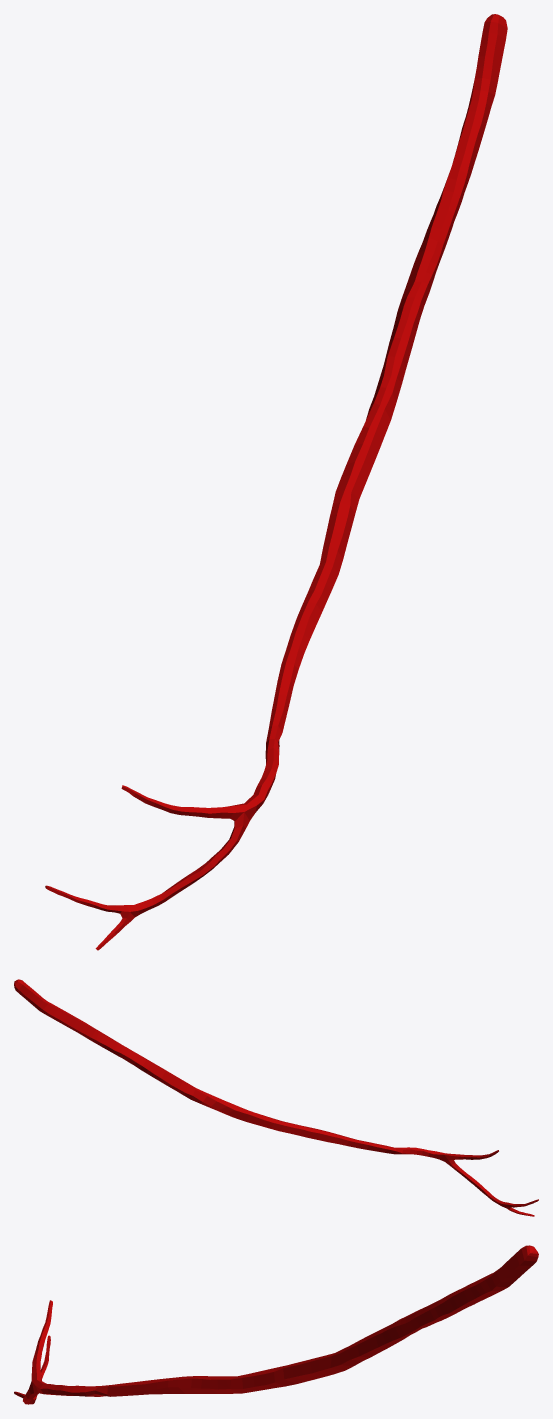
File: Abducens_nerve_L.glb
3 views of the same model, one above another, from view 1: azimuth 30°, elevation 25°; view 2: azimuth 150°, elevation 25°; view 3: azimuth 270°, elevation 25° (orthographic). The views are drawn at different scales.
Visible parts, largest first — view 1: Abducens_nerve_L; view 2: Abducens_nerve_L; view 3: Abducens_nerve_L.
Boxes of the visible parts, x1=… form: Abducens_nerve_L: x1=45, y1=14, x2=507, y2=950; Abducens_nerve_L: x1=14, y1=979, x2=538, y2=1216; Abducens_nerve_L: x1=14, y1=1245, x2=538, y2=1404.
Bounding box in the file's own units: 0.0814 × 0.0546 × 0.0602.
1 material, 1 textured.
